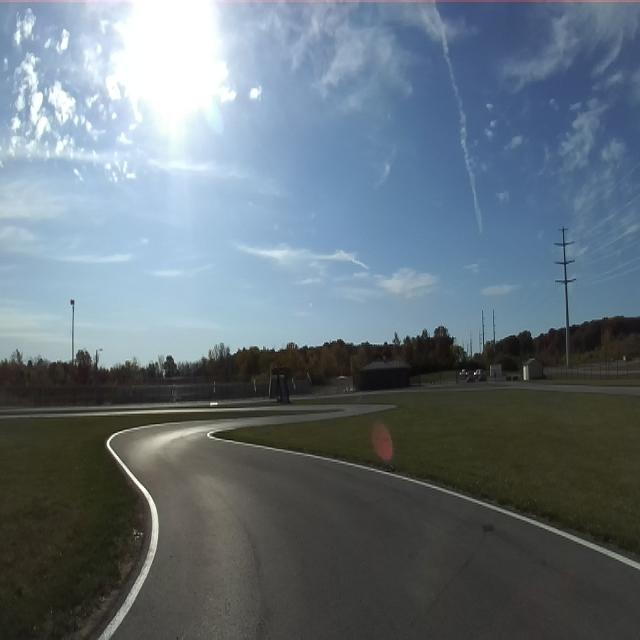white-line: (208, 431, 640, 571), (98, 430, 158, 639)
